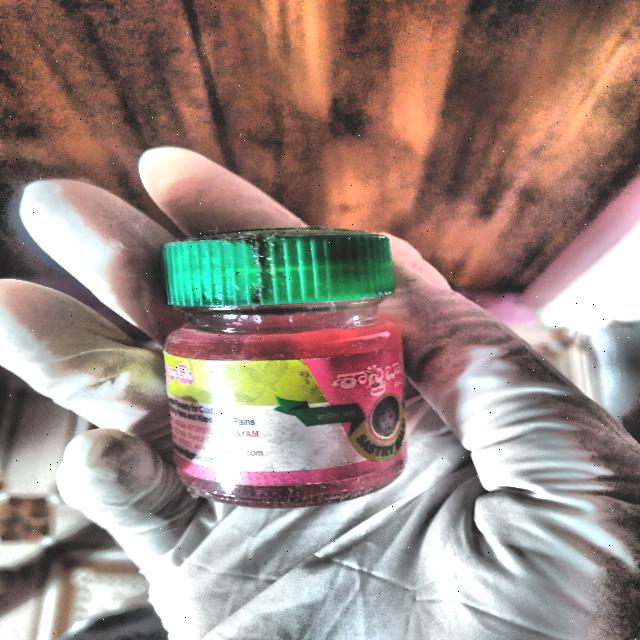gloved: (4, 133, 634, 637)
